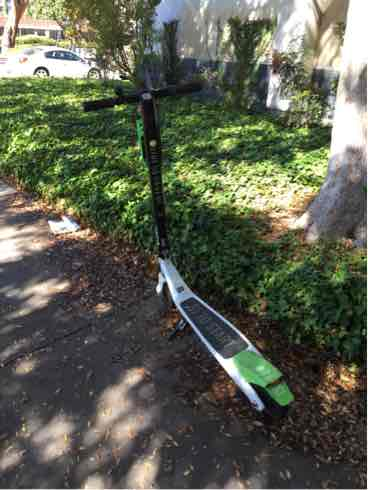scooter: (79, 77, 295, 409)
